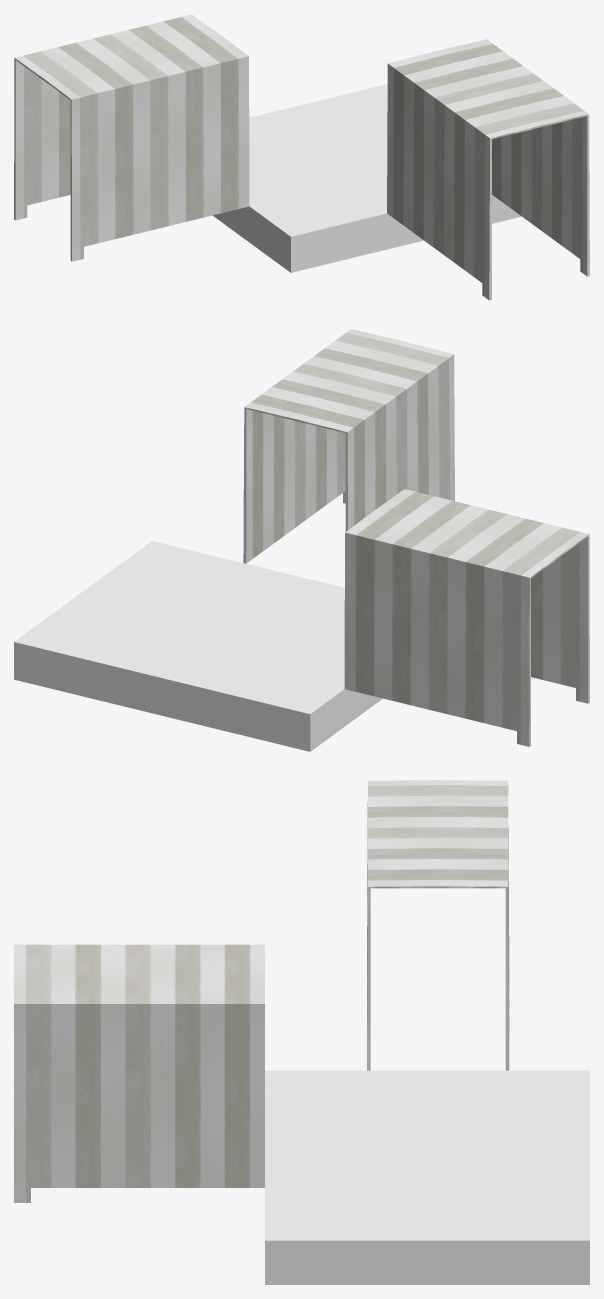
Rendered from Library.fbx.
The picture shows the model from 3 angles, top to bottom: view 1: azimuth 30°, elevation 25°; view 2: azimuth 150°, elevation 25°; view 3: azimuth 270°, elevation 25°; orthographic projection. The views are drawn at different scales.
Visible parts, largest first — view 1: PartyRoomHallway__1_, PartyRoomHallway__2_, Cube__7_; view 2: Cube__7_, PartyRoomHallway__1_, PartyRoomHallway__2_; view 3: Cube__7_, PartyRoomHallway__2_, PartyRoomHallway__1_.
Part boxes in pixels (x1,y1,x2,y2): PartyRoomHallway__1_: (14, 14, 249, 261); PartyRoomHallway__2_: (387, 39, 589, 300); Cube__7_: (212, 84, 521, 272); Cube__7_: (14, 541, 382, 751); PartyRoomHallway__1_: (344, 489, 589, 746); PartyRoomHallway__2_: (243, 329, 454, 563); Cube__7_: (265, 1070, 589, 1284); PartyRoomHallway__2_: (14, 944, 264, 1202); PartyRoomHallway__1_: (367, 780, 509, 1070).
Bounding box in the file's own units: 1337 × 516 × 1179.
2 materials, 1 textured.
